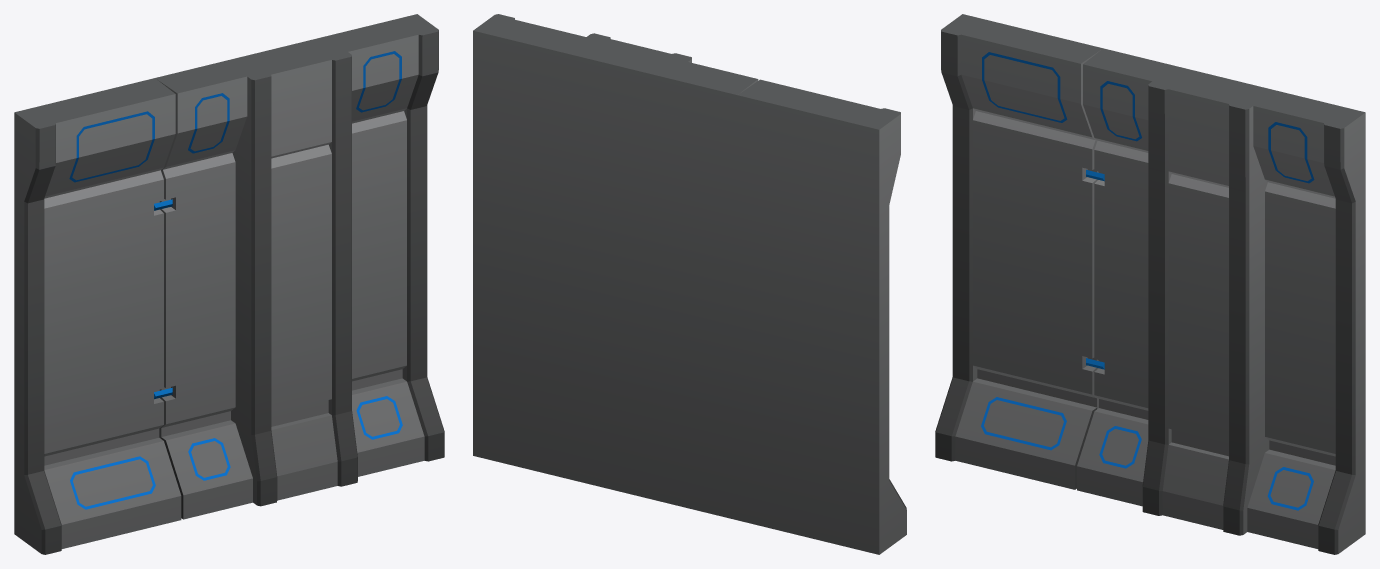
File: Wall_type_B_064.fbx
3 renders of one model, left to right at view 1: azimuth 30°, elevation 25°; view 2: azimuth 150°, elevation 25°; view 3: azimuth 330°, elevation 25°, orthographic.
Visible parts, largest first — view 1: Wall_type_B_064; view 2: Wall_type_B_064; view 3: Wall_type_B_064.
Boxes of the visible parts, bbox=[...] form: Wall_type_B_064: bbox=[14, 14, 444, 554]; Wall_type_B_064: bbox=[473, 14, 906, 554]; Wall_type_B_064: bbox=[935, 14, 1365, 554].
Size of the model in its own units: 400 by 57 by 400.
